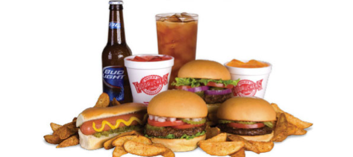pizza: (155, 11, 199, 78), (124, 53, 174, 104), (225, 58, 272, 99)
soup: (144, 89, 208, 151), (215, 96, 277, 152), (76, 102, 148, 150), (170, 59, 238, 104), (270, 102, 313, 142)
